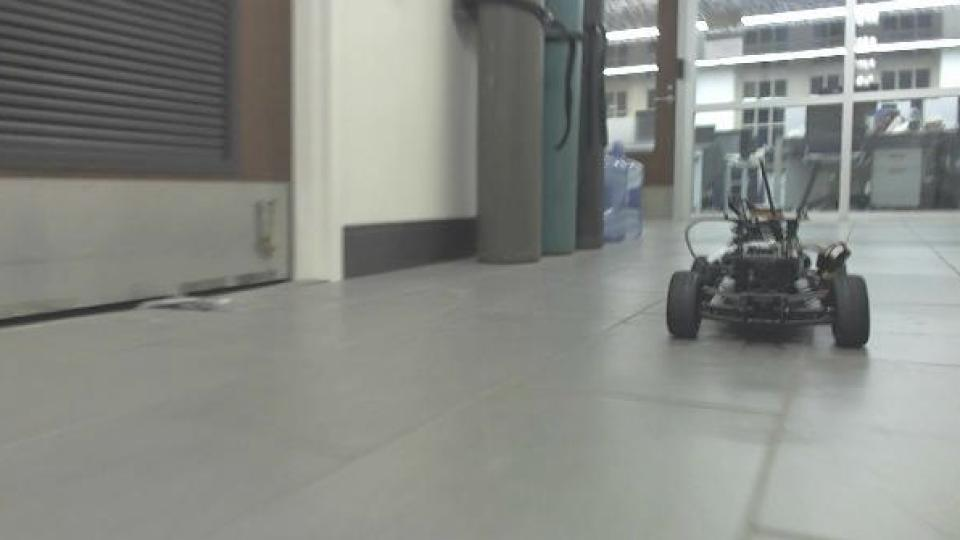car: (662, 142, 873, 351)
